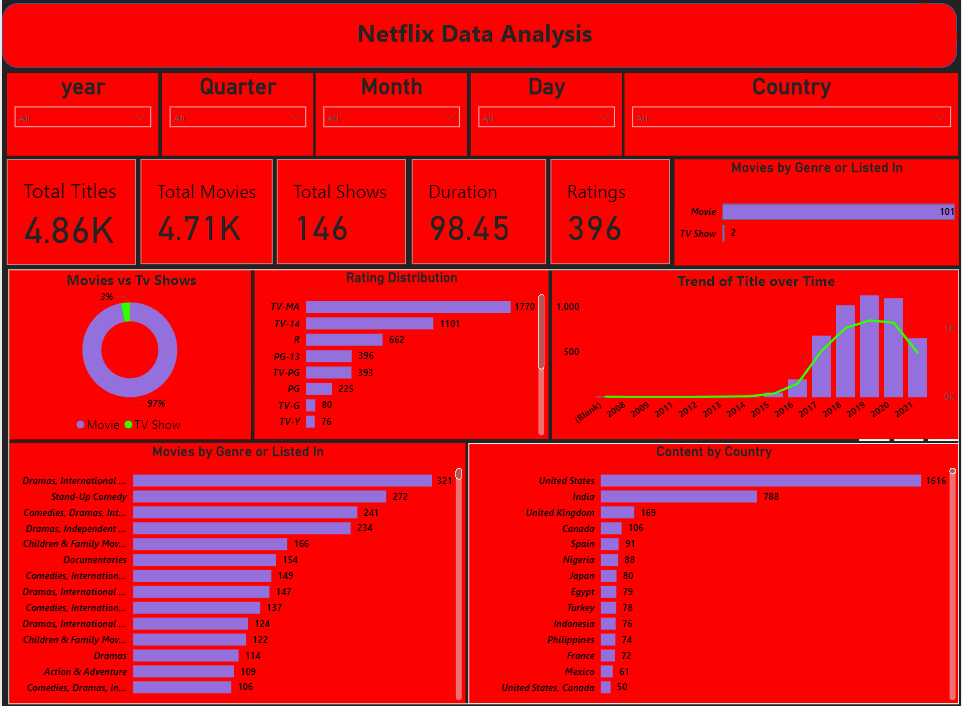

This screenshot's page, from the dashboard's own definition file:
{"tool":"powerbi","page":{"name":"Page 1","canvas":[1280,950],"ordinal":0},"visuals":[{"type":"slicer","title":"year","fields":{"Values":["cleaned_netflix_data.date_added.Variation.Date Hierarchy.Year"]},"box":[6.7,100,201.7,110],"z":0,"group":"g3"},{"type":"cardVisual","fields":{"Data":["cleaned_netflix_data.TotalEntries"]},"box":[0.9,210,182.9,151.7],"z":0,"group":"g2"},{"type":"group","id":"g1","title":"Group 1","box":[8.3,361.7,1268.3,580],"z":0},{"type":"slicer","title":"Quarter","fields":{"Values":["cleaned_netflix_data.date_added.Variation.Date Hierarchy.Quarter"]},"box":[213.4,100,201.7,110],"z":1000,"group":"g3"},{"type":"group","id":"g2","title":"Group 2","box":[0.9,210,1273.3,151.7],"z":1000},{"type":"cardVisual","fields":{"Data":["cleaned_netflix_data.MovieCount"]},"box":[178.7,210,186.2,150],"z":1000,"group":"g2"},{"type":"group","id":"g3","title":"Group 3","box":[6.7,100,1268.3,110],"z":2000},{"type":"slicer","title":"Month","fields":{"Values":["cleaned_netflix_data.date_added.Variation.Date Hierarchy.Month"]},"box":[418.4,100,201.7,110],"z":2000,"group":"g3"},{"type":"cardVisual","fields":{"Data":["cleaned_netflix_data.TVShowCount"]},"box":[361.6,210,182.9,150],"z":2000,"group":"g2"},{"type":"shape","box":[0,6.7,1273.3,86.7],"z":3000},{"type":"slicer","title":"Day","fields":{"Values":["cleaned_netflix_data.date_added.Variation.Date Hierarchy.Day"]},"box":[625,100,201.7,110],"z":3000,"group":"g3"},{"type":"cardVisual","fields":{"Data":["cleaned_netflix_data.AverageDuration"]},"box":[541.1,210,189.6,150],"z":3000,"group":"g2"},{"type":"textbox","box":[10,20,1246.7,55],"z":4000},{"type":"slicer","title":"Country","fields":{"Values":["cleaned_netflix_data.country"]},"box":[830,100,445,110],"z":4000,"group":"g3"},{"type":"cardVisual","fields":{"Data":["cleaned_netflix_data.RatingCount"]},"box":[725.6,210,169.4,150],"z":4000,"group":"g2"},{"type":"shape","box":[1191.7,6.7,81.7,86.7],"z":4001},{"type":"donutChart","title":"Movies vs Tv Shows","fields":{"Y":["cleaned_netflix_data.MovieCount","cleaned_netflix_data.TVShowCount"],"Category":["cleaned_netflix_data.type"]},"box":[8.3,361.7,325,228.3],"z":5000,"group":"g1"},{"type":"clusteredBarChart","title":"Content by Country","fields":{"Category":["cleaned_netflix_data.country"],"Y":["CountNonNull(cleaned_netflix_data.title)"]},"box":[621.6,593.4,655,348.3],"z":6000,"group":"g1"},{"type":"lineStackedColumnComboChart","title":"Trend of Title over Time","fields":{"Y":["CountNonNull(cleaned_netflix_data.title)"],"Category":["cleaned_netflix_data.date_added.Variation.Date Hierarchy.Year"],"Y2":["CountNonNull(cleaned_netflix_data.title)"]},"box":[733.3,363.4,543.3,225],"z":7000,"group":"g1"},{"type":"barChart","title":"Movies by Genre or Listed In","fields":{"Category":["cleaned_netflix_data.listed_in"],"Y":["CountNonNull(cleaned_netflix_data.title)"]},"box":[10,593.4,608.3,348.3],"z":8000,"group":"g1"},{"type":"barChart","title":"Movies by Genre or Listed In","fields":{"Category":["cleaned_netflix_data.type"],"Y":["cleaned_netflix_data.AverageDuration"]},"box":[895.1,215,379.1,141.7],"z":9000,"group":"g2"},{"type":"clusteredBarChart","title":"Rating Distribution","fields":{"Category":["cleaned_netflix_data.rating"],"Y":["CountNonNull(cleaned_netflix_data.title)"]},"box":[336.6,361.7,391.7,226.7],"z":9001,"group":"g1"}]}

Visuals, with their boxes in screenshot pixels (x1, y1, x2, y2), scaled from the page's 1280x950 canvas onto the 962x706 screenshot:
"year" slicer: 5/74/157/156
cardVisual - cleaned_netflix_data.TotalEntries: 1/156/138/269
"Group 1" group: 6/269/959/700
"Quarter" slicer: 160/74/312/156
"Group 2" group: 1/156/958/269
cardVisual - cleaned_netflix_data.MovieCount: 134/156/274/268
"Group 3" group: 5/74/958/156
"Month" slicer: 314/74/466/156
cardVisual - cleaned_netflix_data.TVShowCount: 272/156/409/268
shape: 0/5/957/69
"Day" slicer: 470/74/621/156
cardVisual - cleaned_netflix_data.AverageDuration: 407/156/549/268
textbox: 8/15/944/56
"Country" slicer: 624/74/958/156
cardVisual - cleaned_netflix_data.RatingCount: 545/156/673/268
shape: 896/5/957/69
"Movies vs Tv Shows" donutChart: 6/269/250/438
"Content by Country" clusteredBarChart: 467/441/959/700
"Trend of Title over Time" lineStackedColumnComboChart: 551/270/959/437
"Movies by Genre or Listed In" barChart: 8/441/465/700
"Movies by Genre or Listed In" barChart: 673/160/958/265
"Rating Distribution" clusteredBarChart: 253/269/547/437
